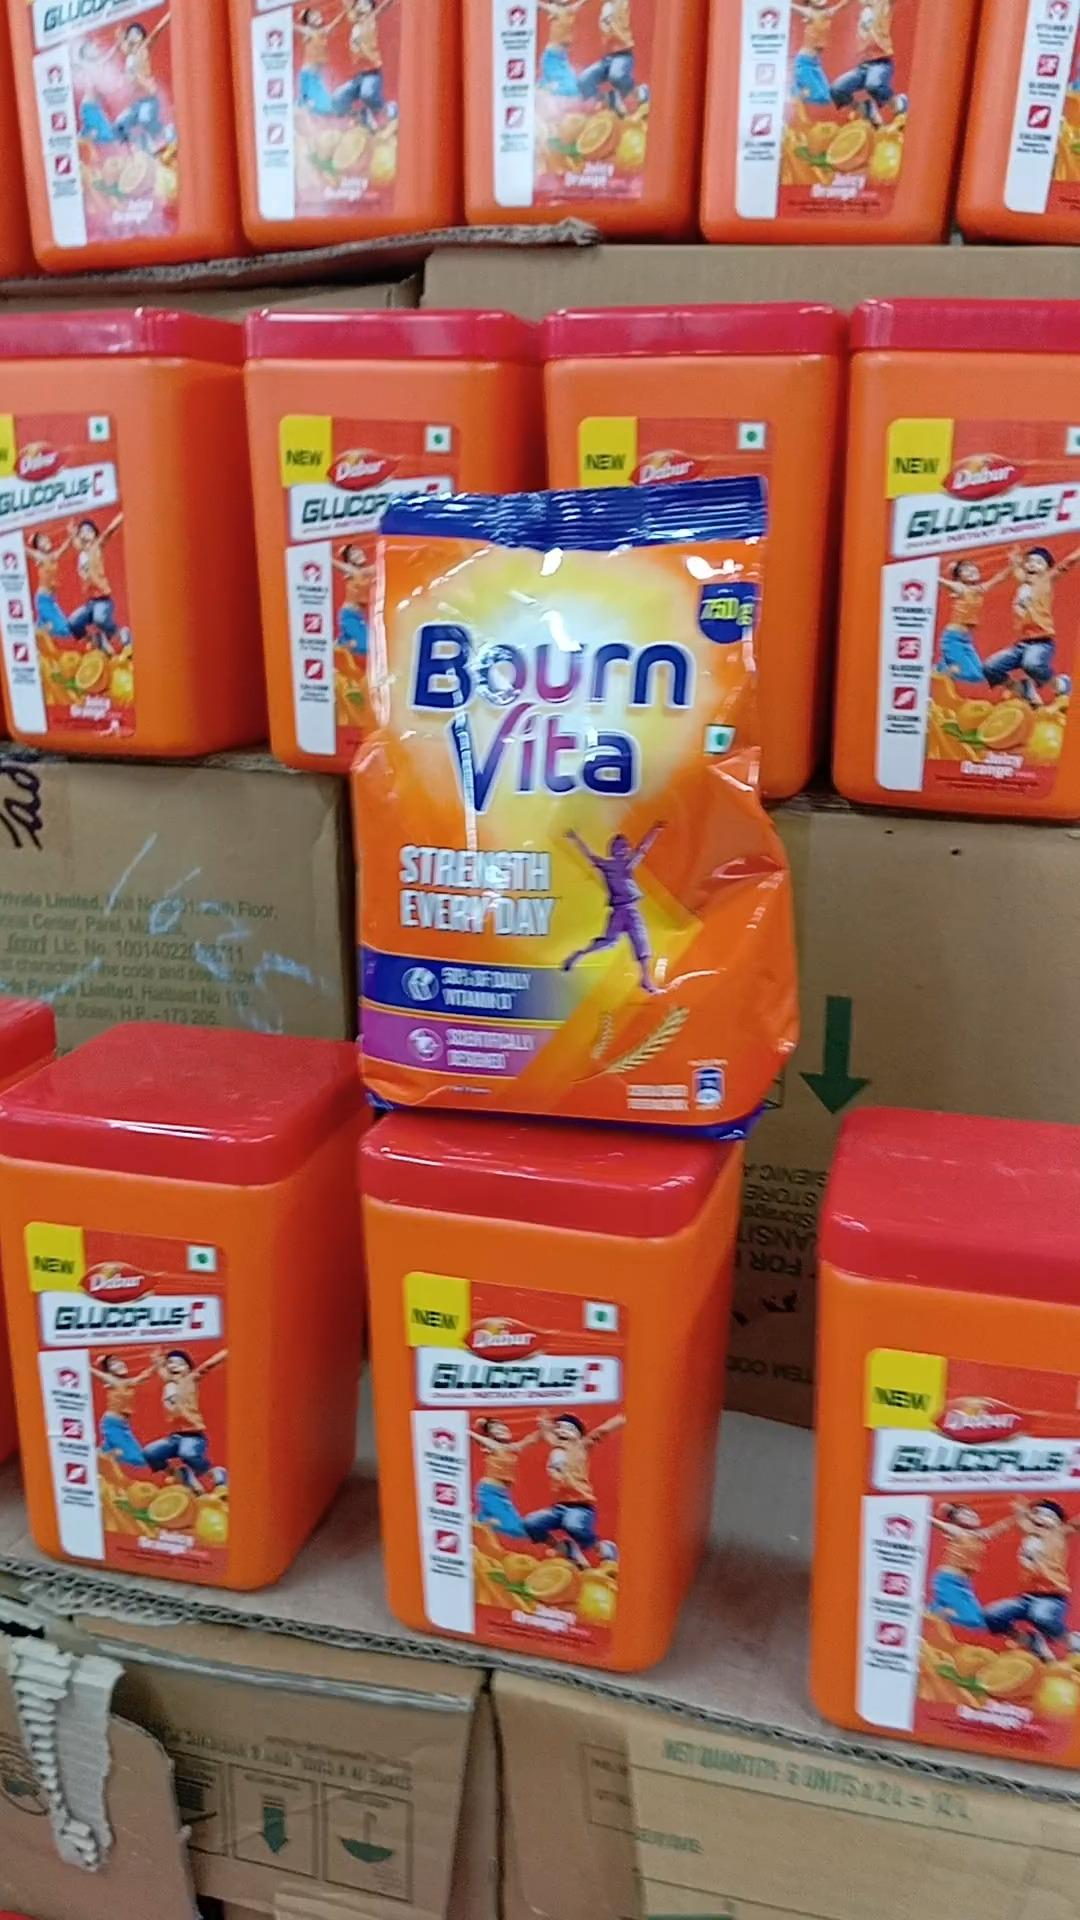BOURN_VITA_750_G_POUCH: (353, 485, 789, 1141)
